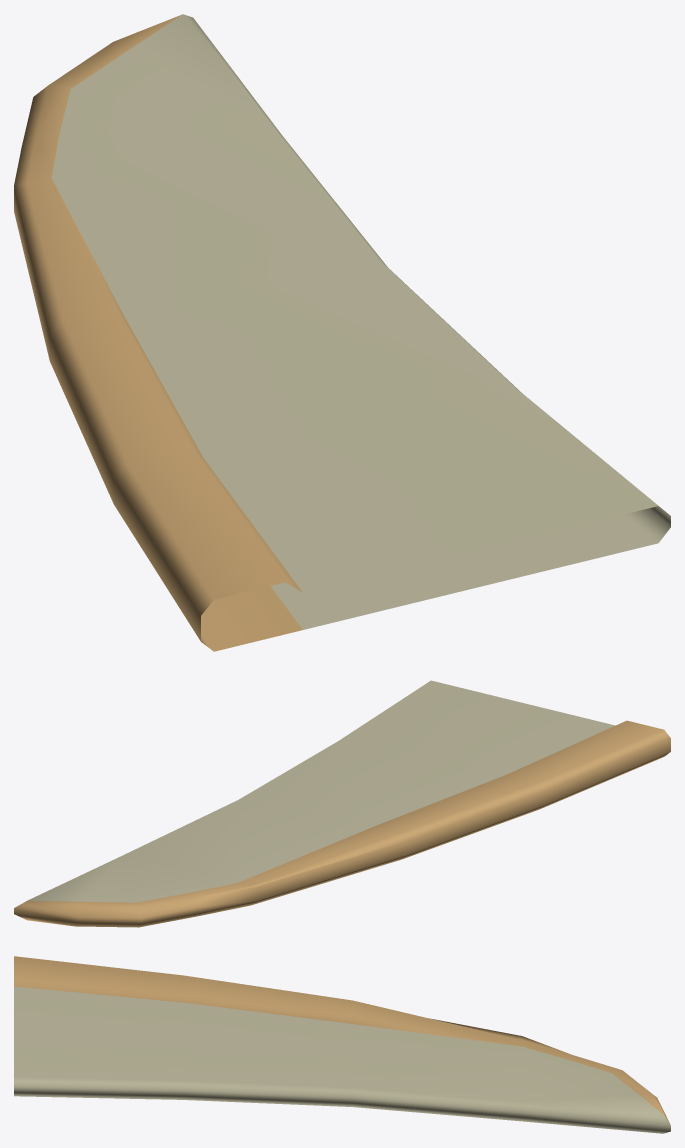
Rendered from Wing_R.fbx.
3 views of the same model, one above another, from view 1: azimuth 30°, elevation 25°; view 2: azimuth 150°, elevation 25°; view 3: azimuth 270°, elevation 25° (orthographic). The views are drawn at different scales.
Parts seen in each view (by area): view 1: Wing_R; view 2: Wing_R; view 3: Wing_R.
Boxes of the visible parts, x1,y1,x2,y2 form: Wing_R: (14, 14, 670, 651); Wing_R: (14, 680, 670, 927); Wing_R: (14, 956, 670, 1133).
Size of the model in its own units: 221 by 17.65 by 388.
